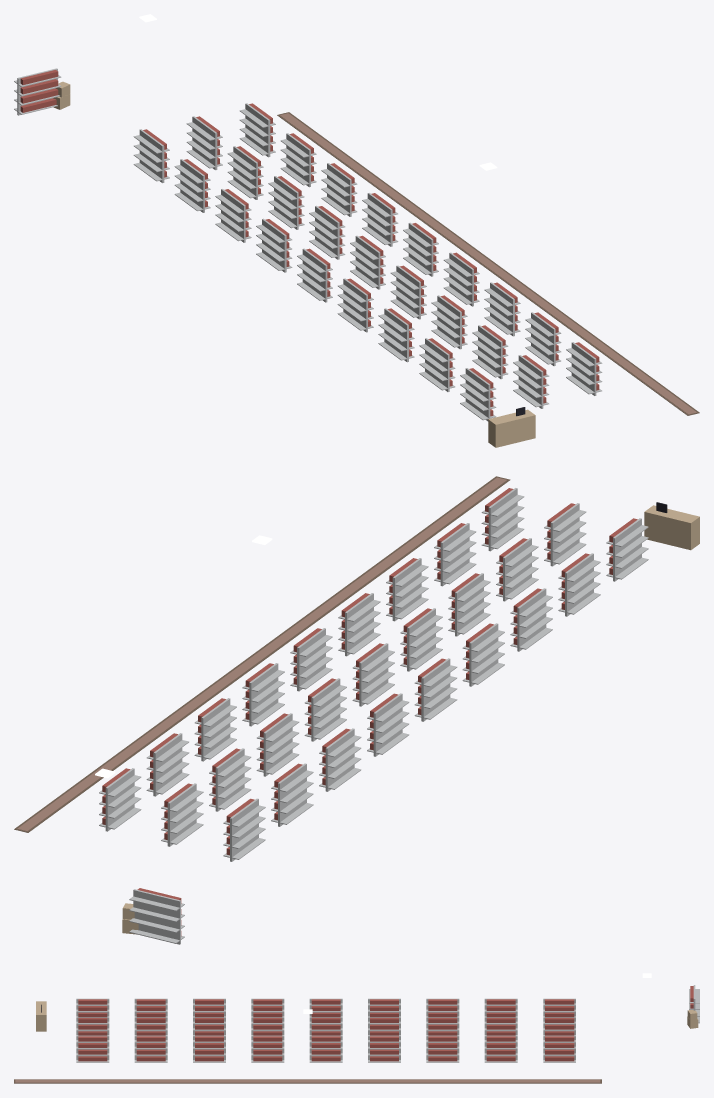
Rendered from fine-s0.glb.
3 views of the same model, one above another, from view 1: azimuth 30°, elevation 25°; view 2: azimuth 150°, elevation 25°; view 3: azimuth 270°, elevation 25° (orthographic). The views are drawn at different scales.
Visible parts, largest first — view 1: soft-s0, shelving.000, shop-counter.000, shelf.021, shelf.026, shelf.013, shelf.017, shelf.022, shelf.008, shelf.004, shelf.015, shelf.018 (+18 smaller); view 2: soft-s0, shelving.000, shop-counter.000, shelf.006, shelf.021, shelf.009, shelf.000, shelf.004, shelf.007, shelf.019, shelf.014, shelf.026 (+18 smaller); view 3: soft-s0, shelf.019, shelf.020, shelf.022, shelf.023, shelf.025, shelf.026, shelf.018, shelf.021, shelf.024, shelf.001, shelf.002 (+19 smaller).
Boxes of the visible parts, x1,y1,x2,y2 form: soft-s0: (277, 112, 699, 415); shelving.000: (14, 68, 61, 115); shop-counter.000: (488, 407, 535, 447); shelf.021: (362, 193, 398, 246); shelf.026: (566, 342, 602, 395); shelf.013: (350, 235, 385, 289); shelf.017: (513, 355, 549, 408); shelf.022: (403, 222, 438, 276); shelf.008: (460, 368, 496, 421); shelf.004: (297, 248, 332, 302); shelf.015: (431, 295, 467, 349); shelf.018: (239, 103, 275, 157); soft-s0: (14, 476, 510, 832); shelving.000: (129, 888, 184, 944); shop-counter.000: (644, 502, 699, 550); shelf.006: (510, 588, 552, 651); shelf.021: (242, 663, 284, 726); shelf.009: (161, 783, 203, 846); shelf.000: (223, 798, 265, 861); shelf.004: (414, 658, 457, 721); shelf.007: (558, 553, 600, 616); shelf.019: (146, 733, 189, 796); shelf.014: (400, 608, 442, 671); shelf.026: (481, 488, 524, 551); soft-s0: (14, 1079, 601, 1083); shelf.019: (484, 1035, 517, 1062); shelf.020: (426, 1035, 459, 1062); shelf.022: (309, 1035, 342, 1062); shelf.023: (251, 1035, 284, 1062); shelf.025: (134, 1035, 167, 1062); shelf.026: (76, 1035, 109, 1062); shelf.018: (543, 1035, 575, 1062); shelf.021: (368, 1035, 400, 1062); shelf.024: (193, 1035, 225, 1062); shelf.001: (484, 998, 517, 1017); shelf.002: (426, 998, 459, 1017).
Size of the model in its own units: 9.36 by 4.25 by 37.62.
